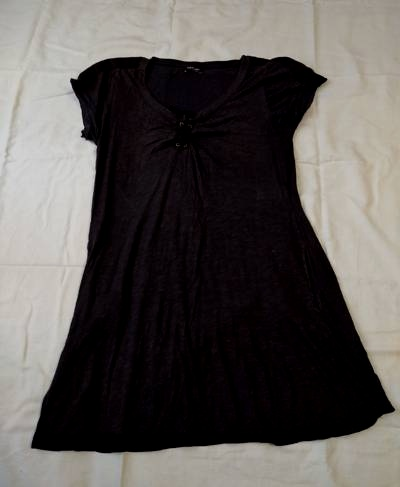Dress: (12, 31, 374, 462)
